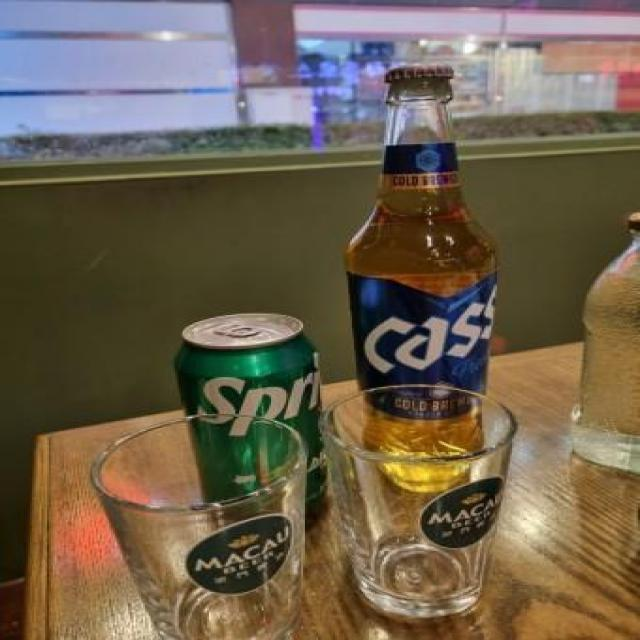beer-bottle: (336, 58, 513, 482)
